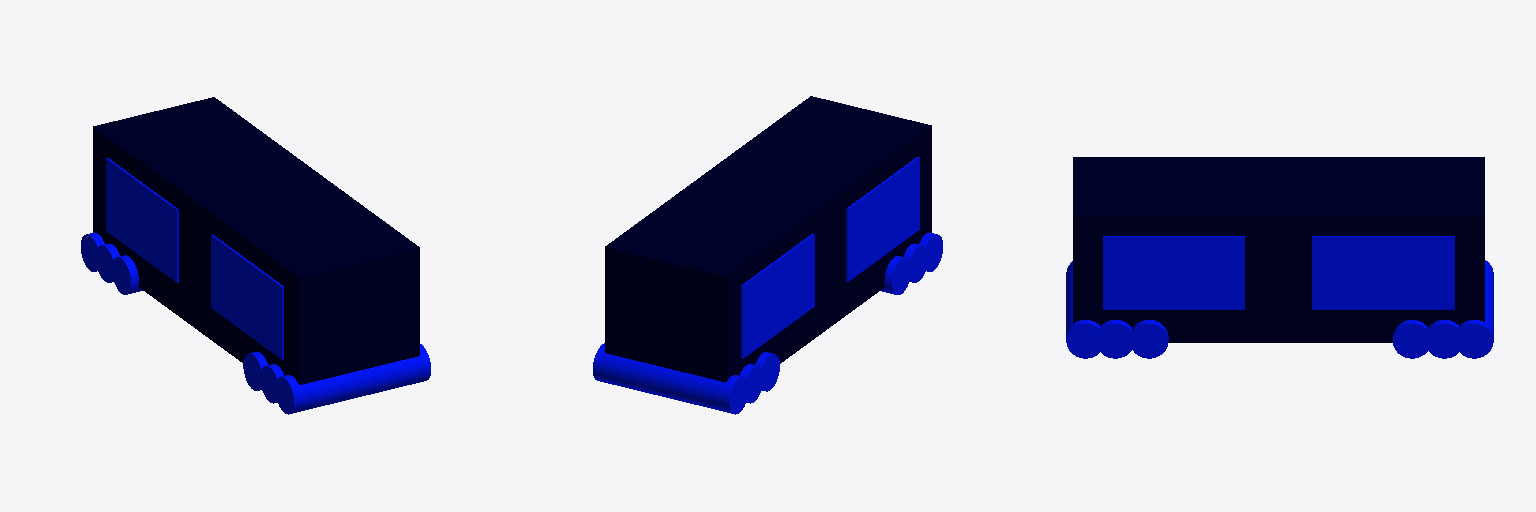
Rendered from train.obj.
The picture shows the model from 3 angles: view 1: azimuth 30°, elevation 25°; view 2: azimuth 150°, elevation 25°; view 3: azimuth 270°, elevation 25°; orthographic projection.
Parts seen in each view (by area): view 1: Cube_Cube.001, Cube.001_Cube.002, Cube.002_Cube.003, Cylinder.003, Cylinder.004, Cylinder.005, Cylinder, Cylinder.001, Cylinder.006; view 2: Cube_Cube.001, Cube.001_Cube.002, Cube.002_Cube.003, Cylinder.001, Cylinder.005, Cylinder.004, Cylinder.006, Cylinder, Cylinder.003; view 3: Cube_Cube.001, Cube.001_Cube.002, Cube.002_Cube.003, Cylinder.001, Cylinder.003, Cylinder.005, Cylinder.004, Cylinder, Cylinder.006.
Part boxes in pixels (x1,y1,x2,y2): Cube_Cube.001: (93, 97, 419, 384); Cube.001_Cube.002: (106, 158, 178, 282); Cube.002_Cube.003: (211, 234, 283, 359); Cylinder.003: (275, 344, 430, 414); Cylinder.004: (112, 255, 142, 294); Cylinder.005: (243, 352, 267, 390); Cylinder: (96, 243, 119, 282); Cylinder.001: (81, 232, 104, 271); Cylinder.006: (260, 364, 283, 403); Cube_Cube.001: (605, 96, 931, 382); Cube.001_Cube.002: (741, 233, 814, 358); Cube.002_Cube.003: (846, 157, 919, 281); Cylinder.001: (593, 343, 748, 414); Cylinder.005: (881, 256, 910, 294); Cylinder.004: (755, 352, 779, 391); Cylinder.006: (904, 243, 927, 282); Cylinder: (740, 364, 762, 403); Cylinder.003: (919, 232, 942, 271); Cube_Cube.001: (1073, 157, 1484, 342); Cube.001_Cube.002: (1312, 236, 1454, 309); Cube.002_Cube.003: (1103, 236, 1244, 309); Cylinder.001: (1455, 260, 1493, 358); Cylinder.003: (1066, 261, 1104, 358); Cylinder.005: (1130, 320, 1168, 358); Cylinder.004: (1393, 320, 1430, 358); Cylinder: (1425, 320, 1463, 358); Cylinder.006: (1096, 320, 1134, 358).
Size of the model in its own units: 2.44 by 2.36 by 6.6.